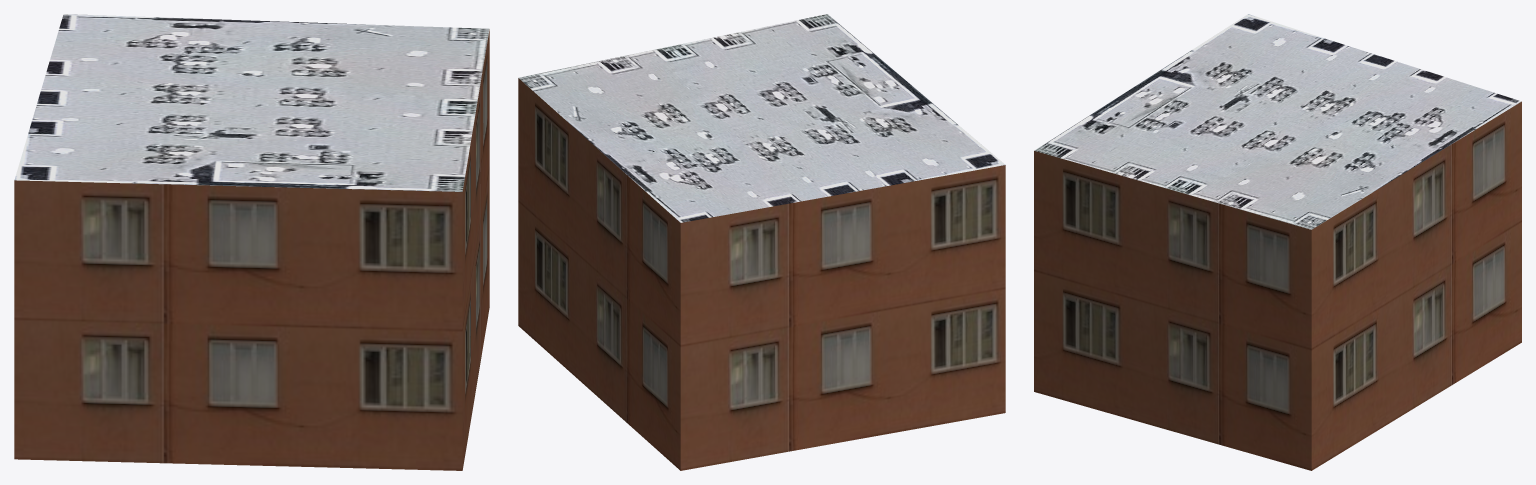
The model's file is ResTex__3859.fbx.
3 views of the same model, side by side, from view 1: azimuth 30°, elevation 25°; view 2: azimuth 150°, elevation 25°; view 3: azimuth 270°, elevation 25° (orthographic). The views are drawn at different scales.
Visible parts, largest first — view 1: CityEngineMaterial_20_m, CityEngineMaterial_4_m; view 2: CityEngineMaterial_20_m, CityEngineMaterial_4_m; view 3: CityEngineMaterial_20_m, CityEngineMaterial_4_m.
Part boxes in pixels (x1,y1,x2,y2): CityEngineMaterial_20_m: (14, 29, 489, 470); CityEngineMaterial_4_m: (14, 14, 489, 191); CityEngineMaterial_20_m: (518, 78, 1005, 470); CityEngineMaterial_4_m: (518, 14, 1005, 222); CityEngineMaterial_20_m: (1034, 101, 1521, 470); CityEngineMaterial_4_m: (1034, 14, 1521, 229).
Size of the model in its own units: 11.52 by 6 by 11.
Materials: 2 (2 with a texture image).
